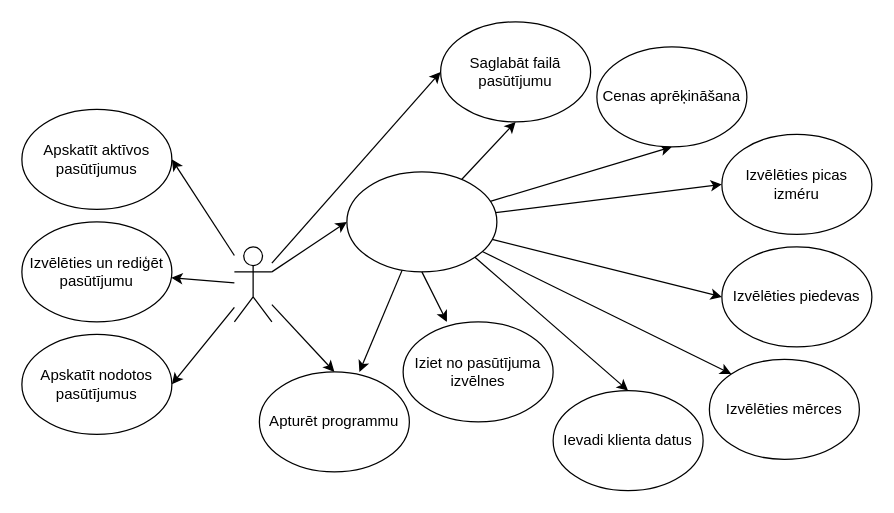
Image size: 894x513. Some labels were removed from this diagram. The shapes that lost their labels are listed below. From the top down, each one's centre as x and y in pixels, then its label:
At pixel 421 221: "Izveidot pasūtījumu".
At pixel 252 284: "Darbinieks".
